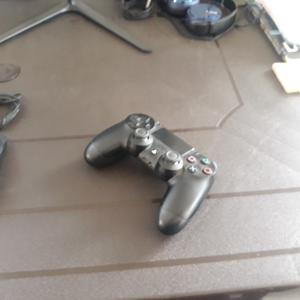controller: (84, 113, 217, 236)
